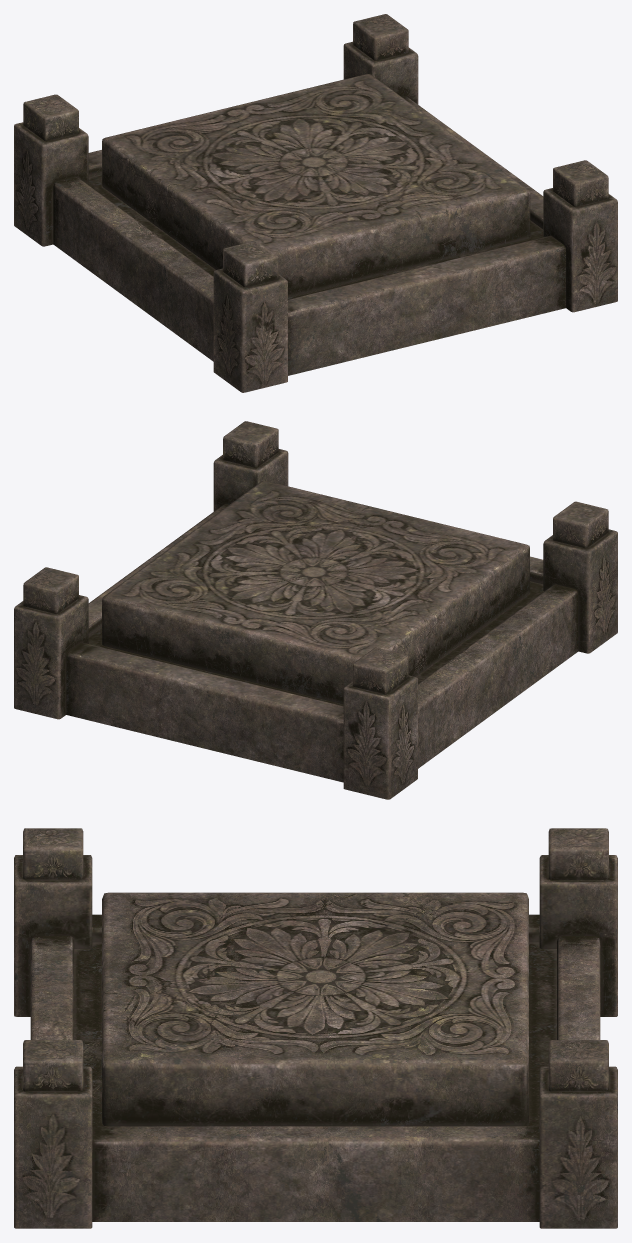
Rendered from SM_tombstone_35.fbx.
The picture shows the model from 3 angles, top to bottom: view 1: azimuth 30°, elevation 25°; view 2: azimuth 150°, elevation 25°; view 3: azimuth 270°, elevation 25°; orthographic projection. The views are drawn at different scales.
Visible parts, largest first — view 1: SM_tombstone_035; view 2: SM_tombstone_035; view 3: SM_tombstone_035.
Part boxes in pixels (x1,y1,x2,y2): SM_tombstone_035: (14,14,617,392); SM_tombstone_035: (14,421,617,799); SM_tombstone_035: (14,828,617,1228).
Size of the model in its own units: 132 by 41.62 by 139.
